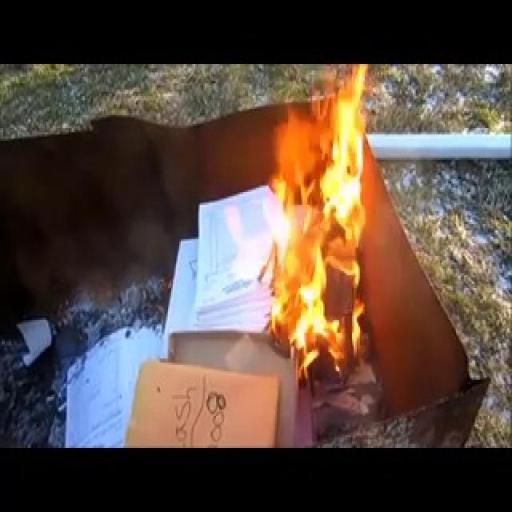smoke: (248, 62, 370, 364)
